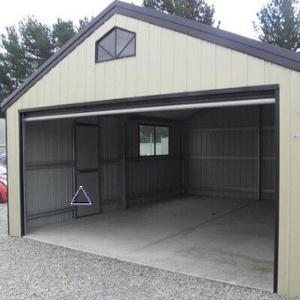triangle: (67, 184, 95, 208)
